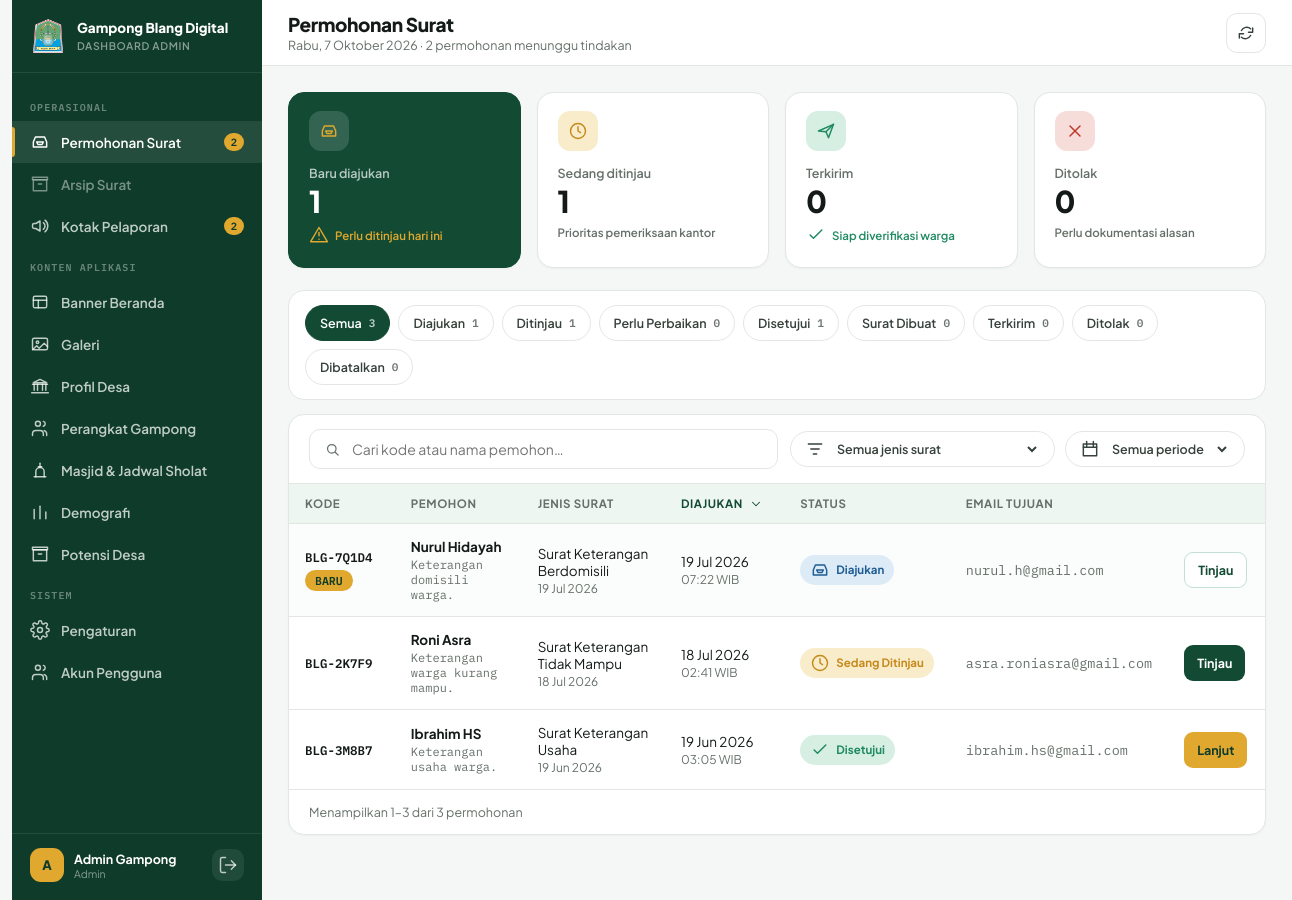
Test: letter request queue › filters by letter type
The image size is (1292, 900).
Check: the text "Roni Asra" is shown, box left=411, top=631, right=471, bottom=648
Select "Surat Keterangan Berdomisili" in the dropdown named "filter jenis surat": (936, 449) left=833, top=440, right=1040, bottom=458
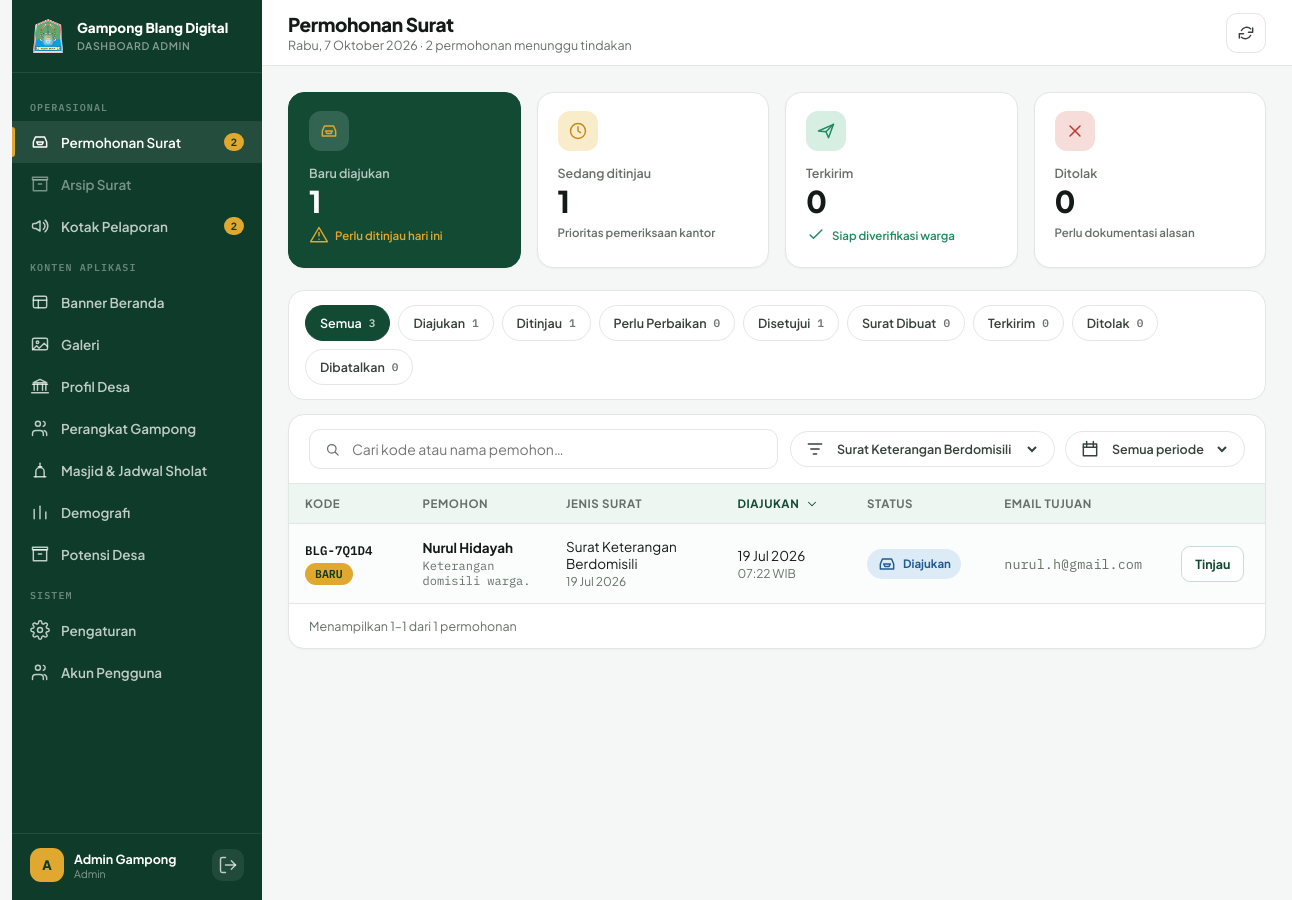
Check: the text "Nurul Hidayah" is shown, box left=422, top=539, right=513, bottom=556
Check: the text "Roni Asra" is gone
